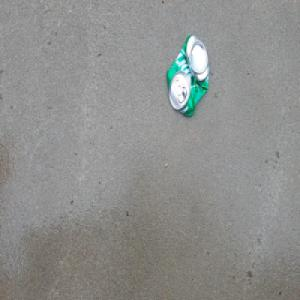SodaCan: (165, 32, 210, 119)
